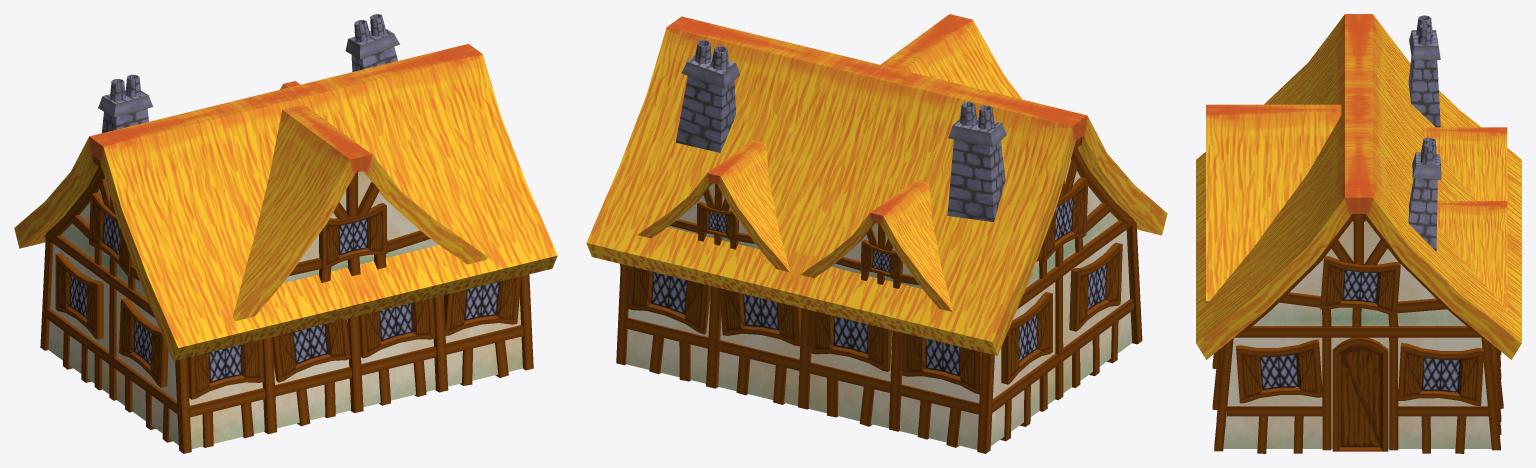
The model's file is Cottage.fbx.
The picture shows the model from 3 angles, left to right: view 1: azimuth 30°, elevation 25°; view 2: azimuth 150°, elevation 25°; view 3: azimuth 270°, elevation 25°; orthographic projection. The views are drawn at different scales.
Visible parts, largest first — view 1: Cottage_geo; view 2: Cottage_geo; view 3: Cottage_geo.
Part boxes in pixels (left/top/right/bottom): Cottage_geo: left=14, top=14, right=557, bottom=453; Cottage_geo: left=586, top=14, right=1167, bottom=453; Cottage_geo: left=1196, top=14, right=1521, bottom=453.
Size of the model in its own units: 780 by 569 by 585.
